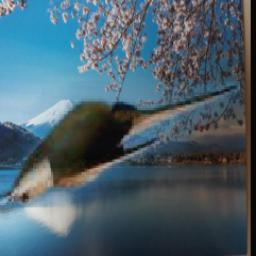Cuckoo: (0, 82, 241, 209)
